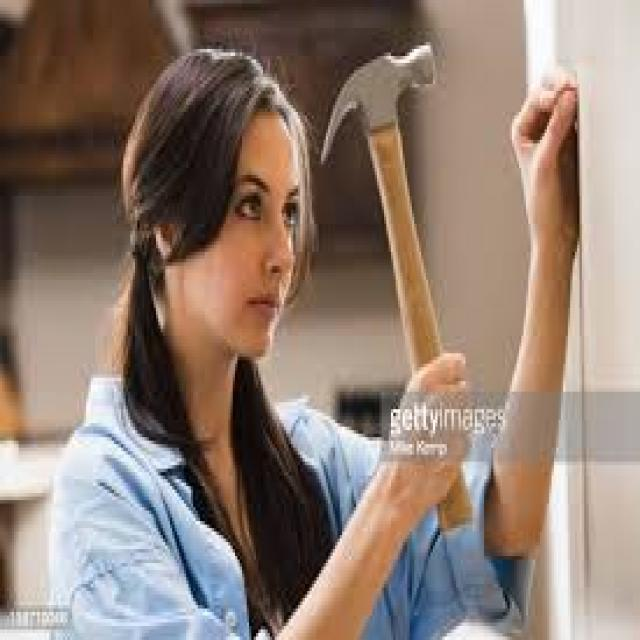hammer: (319, 39, 489, 542)
